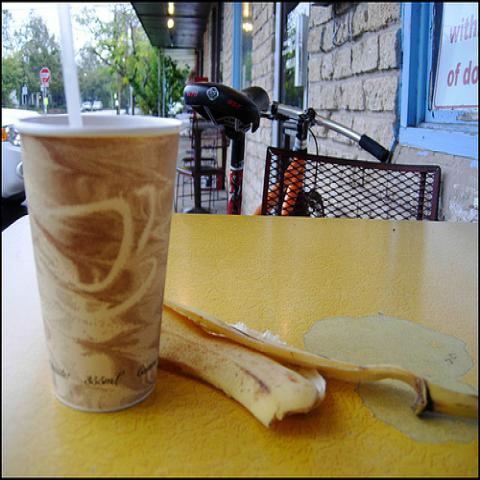car: (2, 107, 41, 208), (92, 100, 104, 112)
